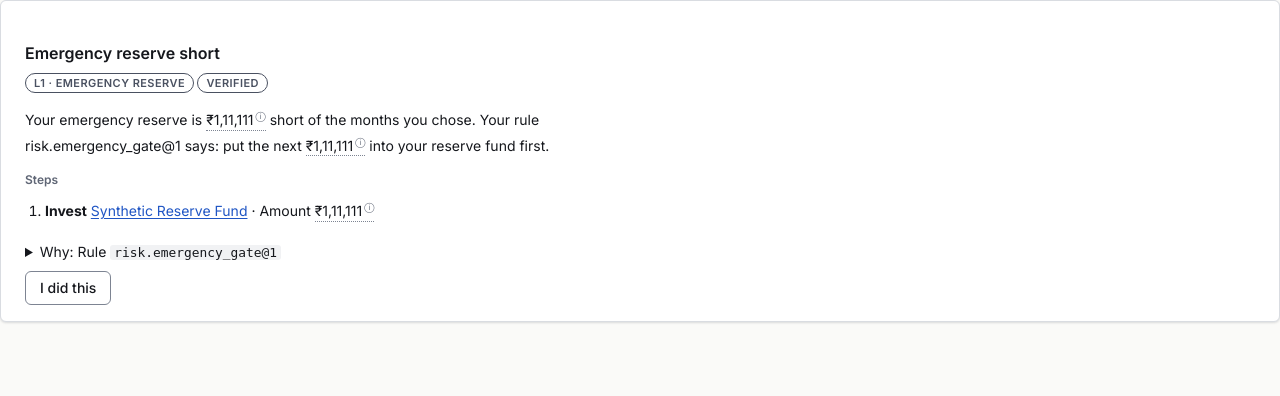
Test: ActionCard › a failed POST is reported and nothing is shown as logged
Click the button "I did this". click: (68, 288)
box: [25,271,111,305]
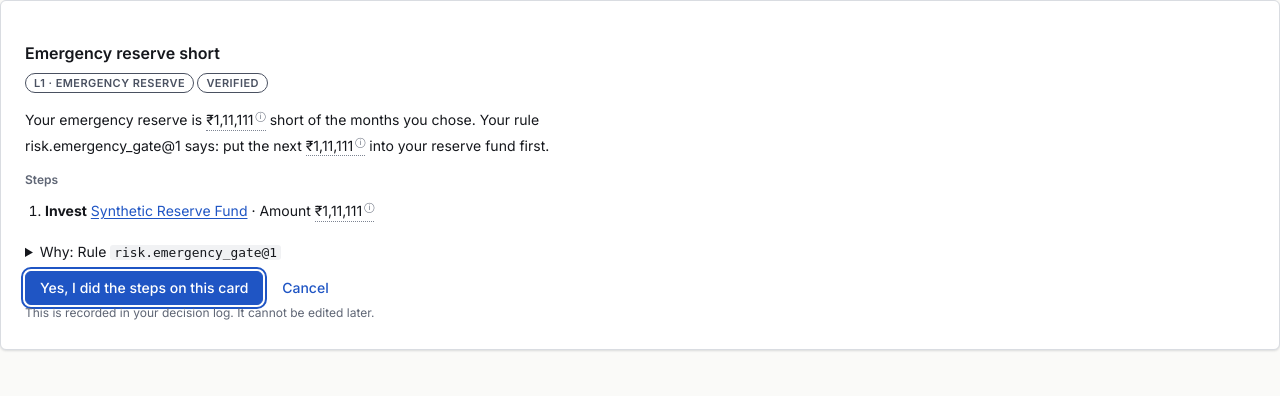
Click the button "Yes, I did the steps on this card". click: (144, 288)
box: [25,271,263,305]
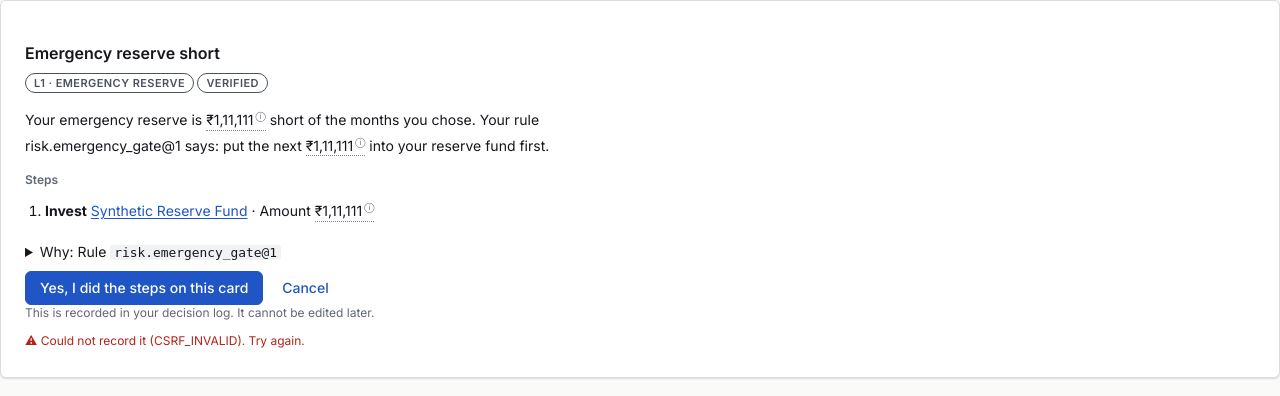
Expected: the message shows "CSRF_INVALID", [154,333,237,348]
